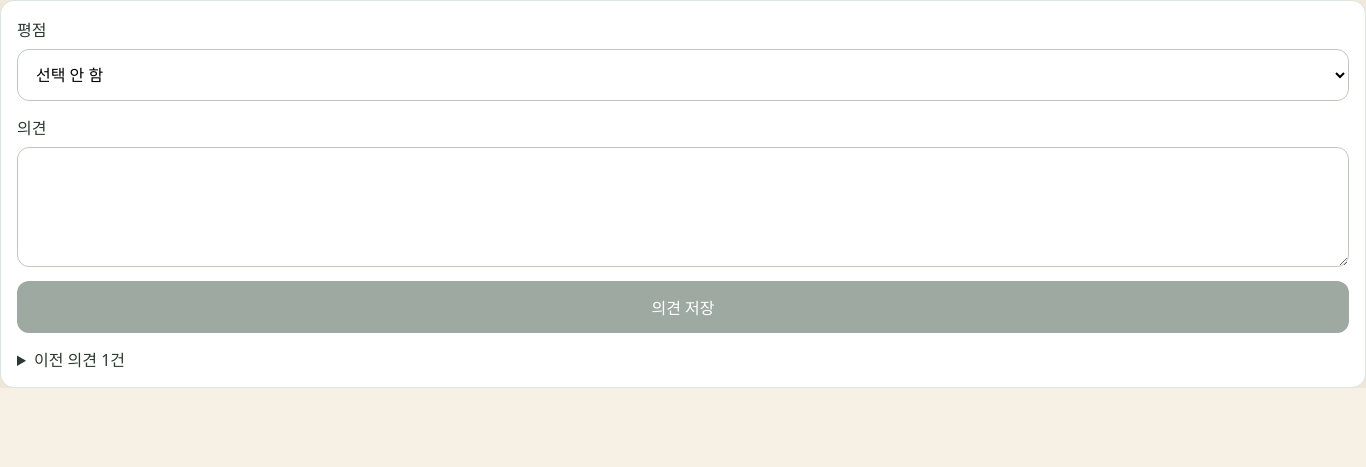
ResultFeedback › loads history and submits rating with feedback text
Expected: the heading "이전 의견 1건" is shown, [34, 349, 125, 371]
Select "5점" in the dropdown labelled "평점" at (683,75), box [17, 49, 1349, 101]
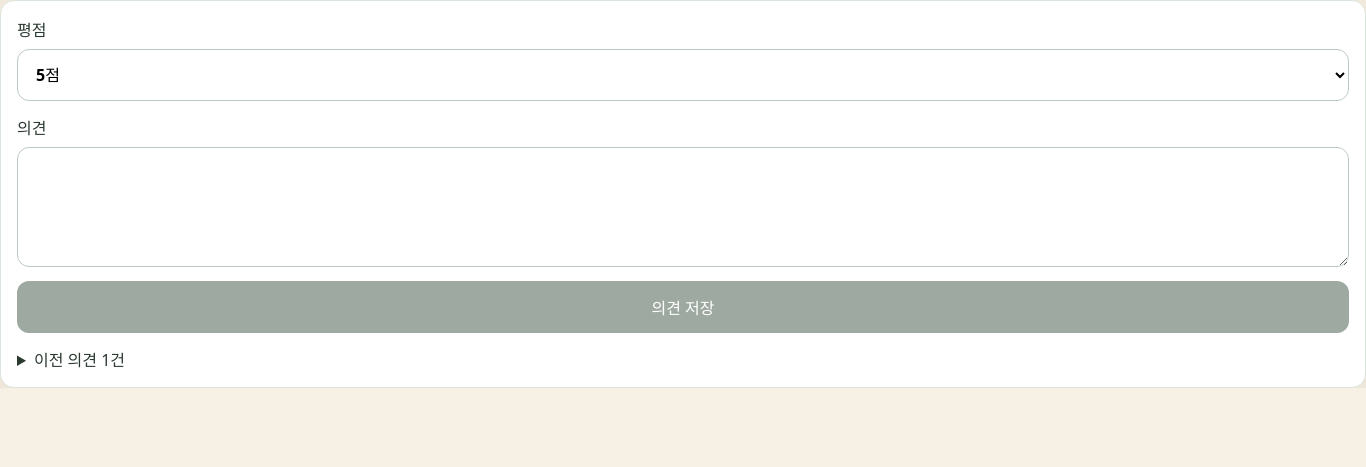
Type "설명이 이해하기 쉬워요" into the text box labelled "의견" at (683,207), box [17, 147, 1349, 267]
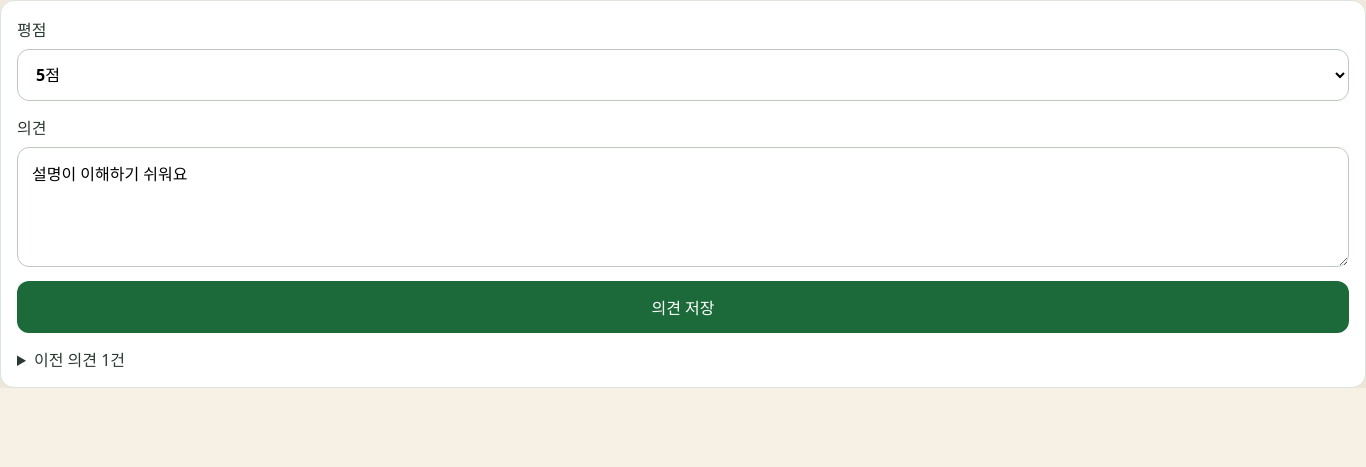
Click the button "의견 저장" at (683,307), box [17, 281, 1349, 333]
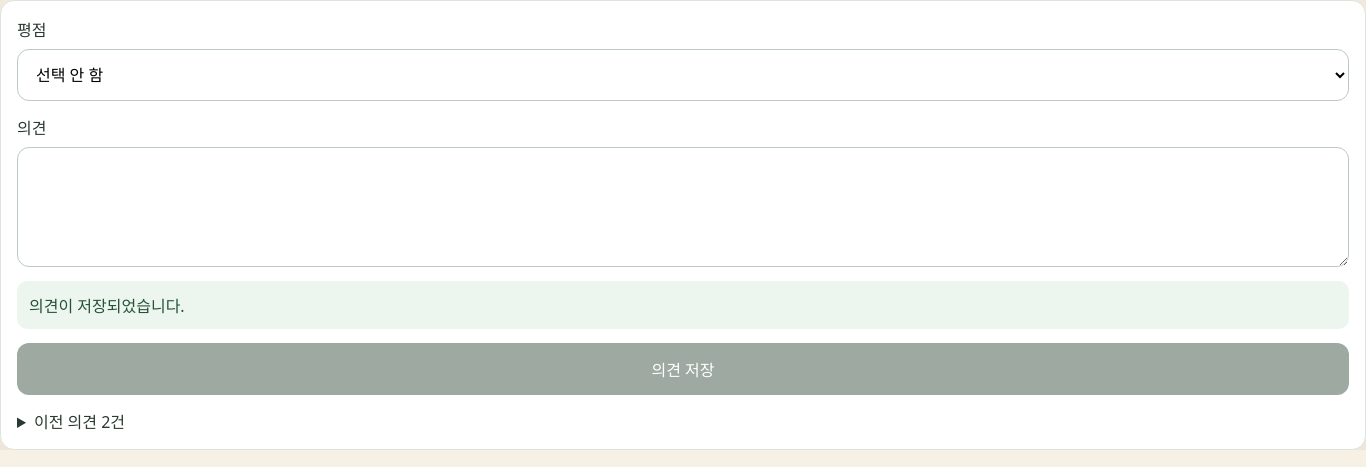
Expected: the message reads "의견이 저장되었습니다.", [29, 295, 185, 317]
